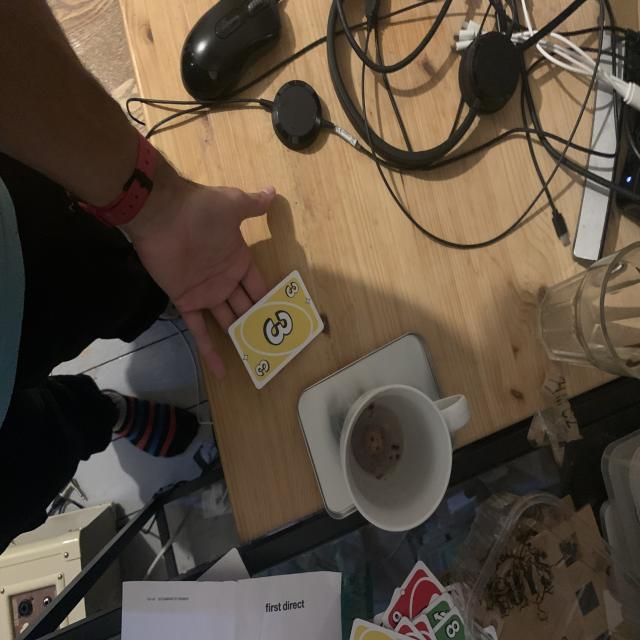lyellow-3: (282, 278, 302, 302)
